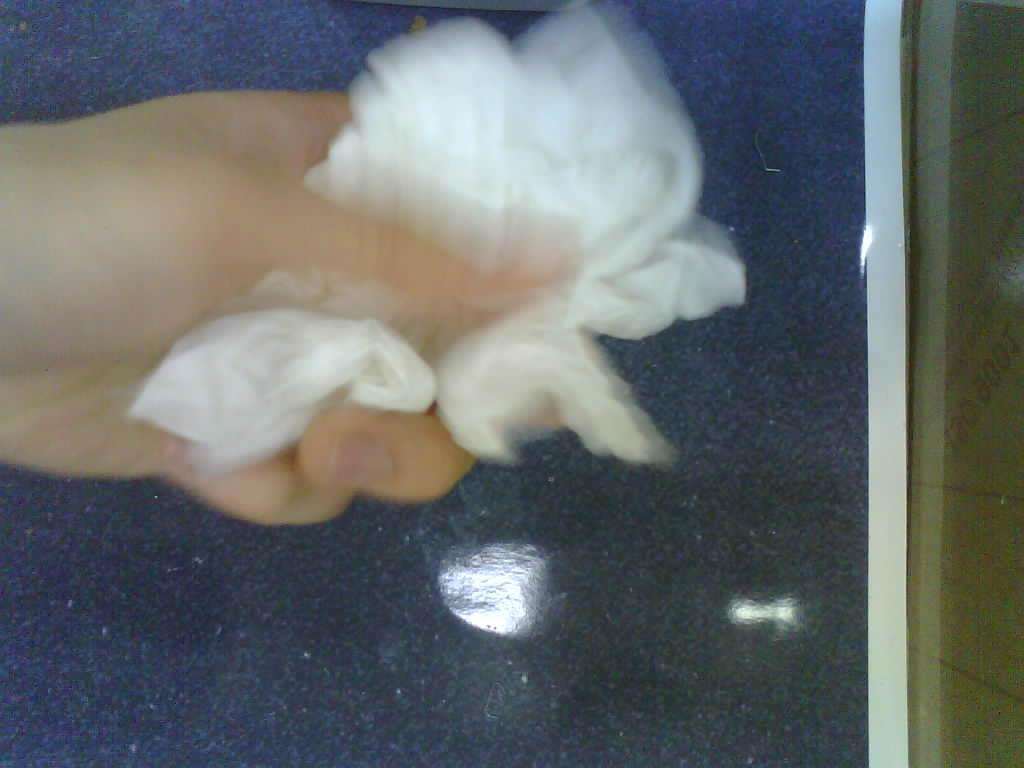paper: (130, 10, 744, 474)
